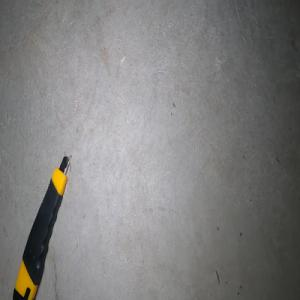Cutter: (12, 155, 70, 300)
